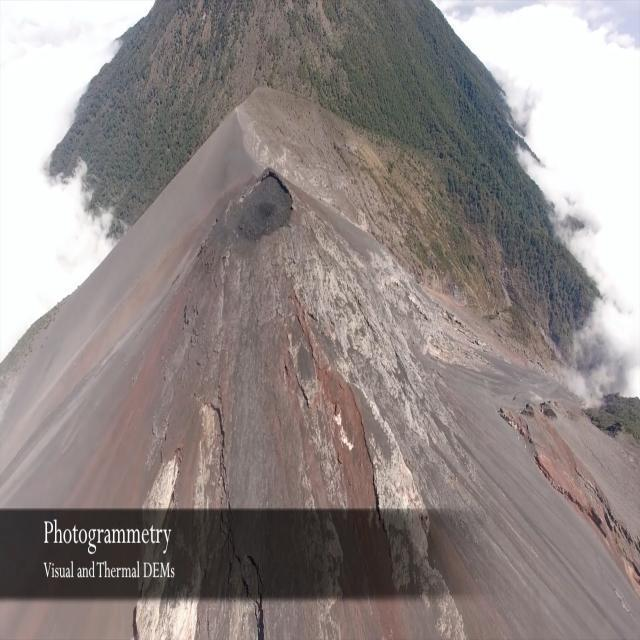Summit: (56, 155, 578, 508)
